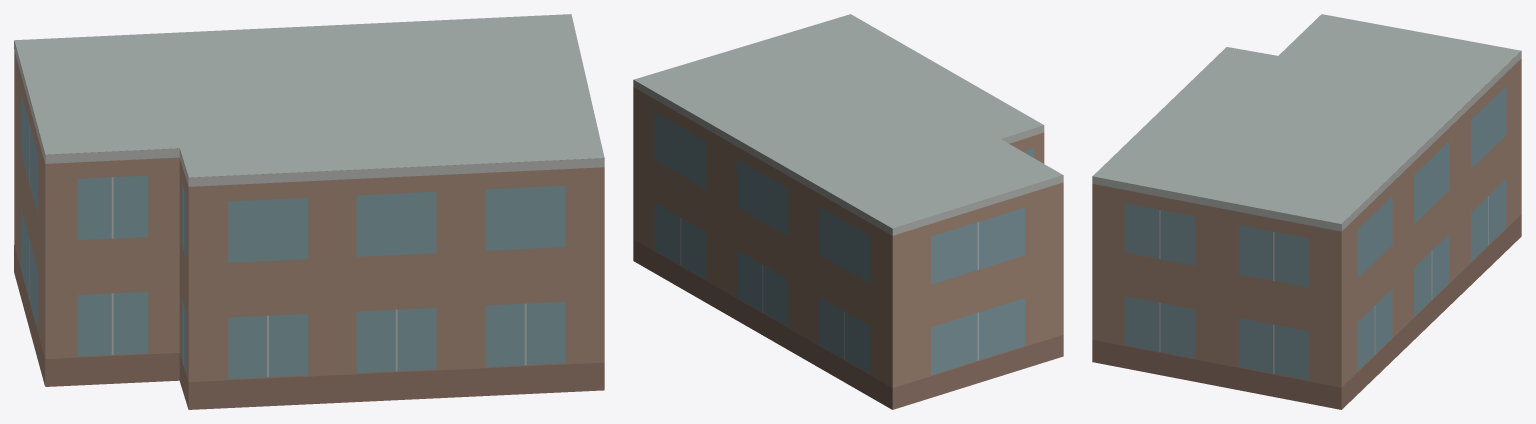
Rendered from survey-upis-32990526.glb.
The picture shows the model from 3 angles, left to right: view 1: azimuth 30°, elevation 25°; view 2: azimuth 150°, elevation 25°; view 3: azimuth 270°, elevation 25°; orthographic projection. The views are drawn at different scales.
Visible parts, largest first — view 1: survey-upis-32990526.tmp; view 2: survey-upis-32990526.tmp; view 3: survey-upis-32990526.tmp.
Part boxes in pixels (bbox=[...]): survey-upis-32990526.tmp: bbox=[14, 14, 604, 409]; survey-upis-32990526.tmp: bbox=[633, 14, 1063, 409]; survey-upis-32990526.tmp: bbox=[1092, 14, 1521, 409].
Size of the model in its own units: 14.81 by 6.1 by 12.78.
